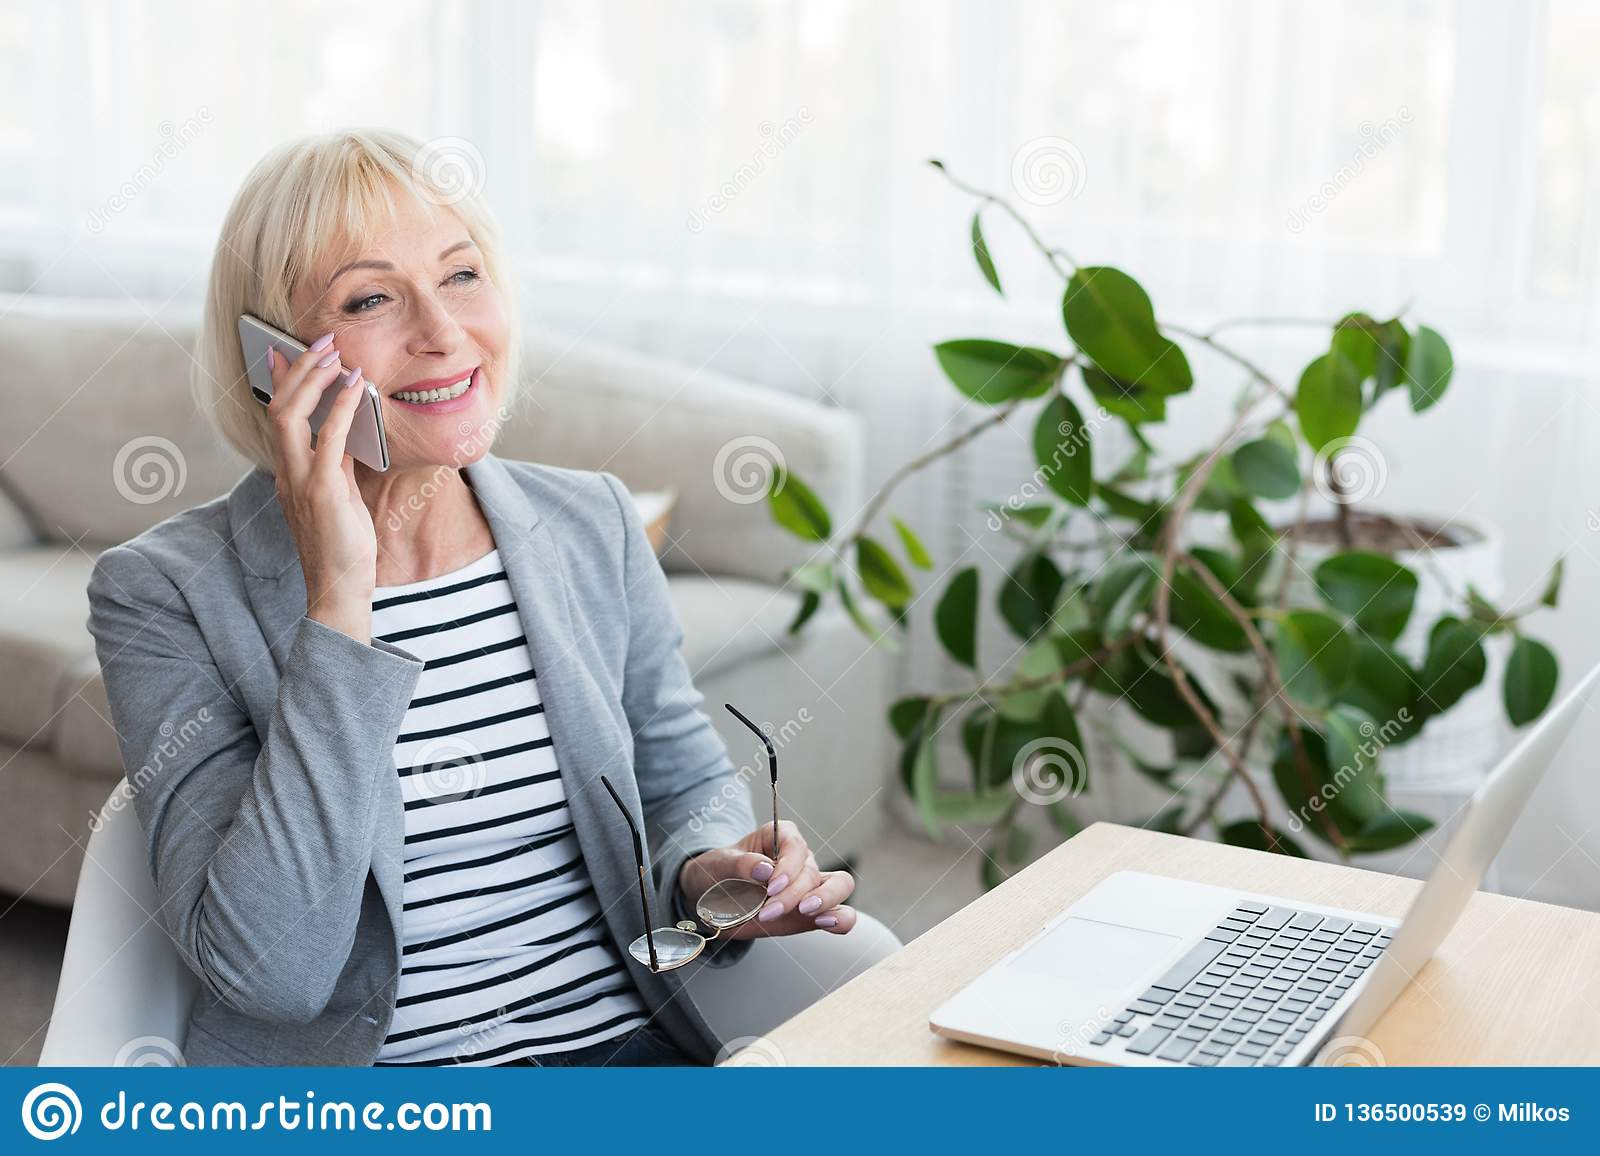phone: (239, 319, 395, 481)
talk: (227, 228, 512, 634)
